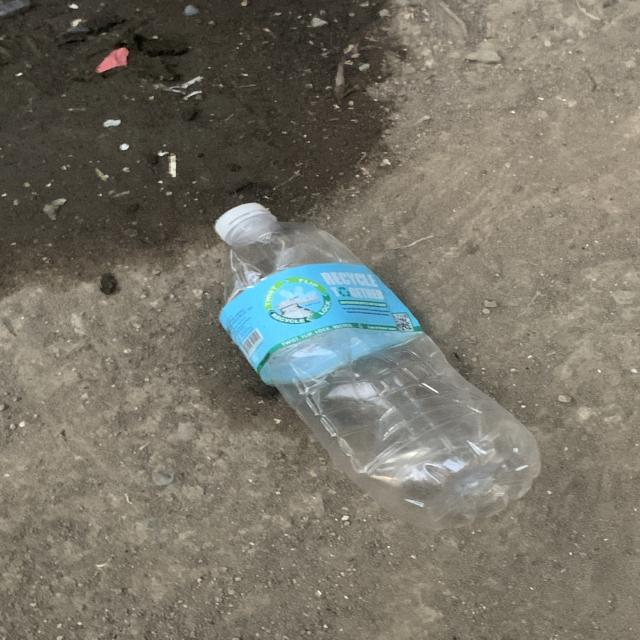Bottle: (214, 203, 540, 530)
